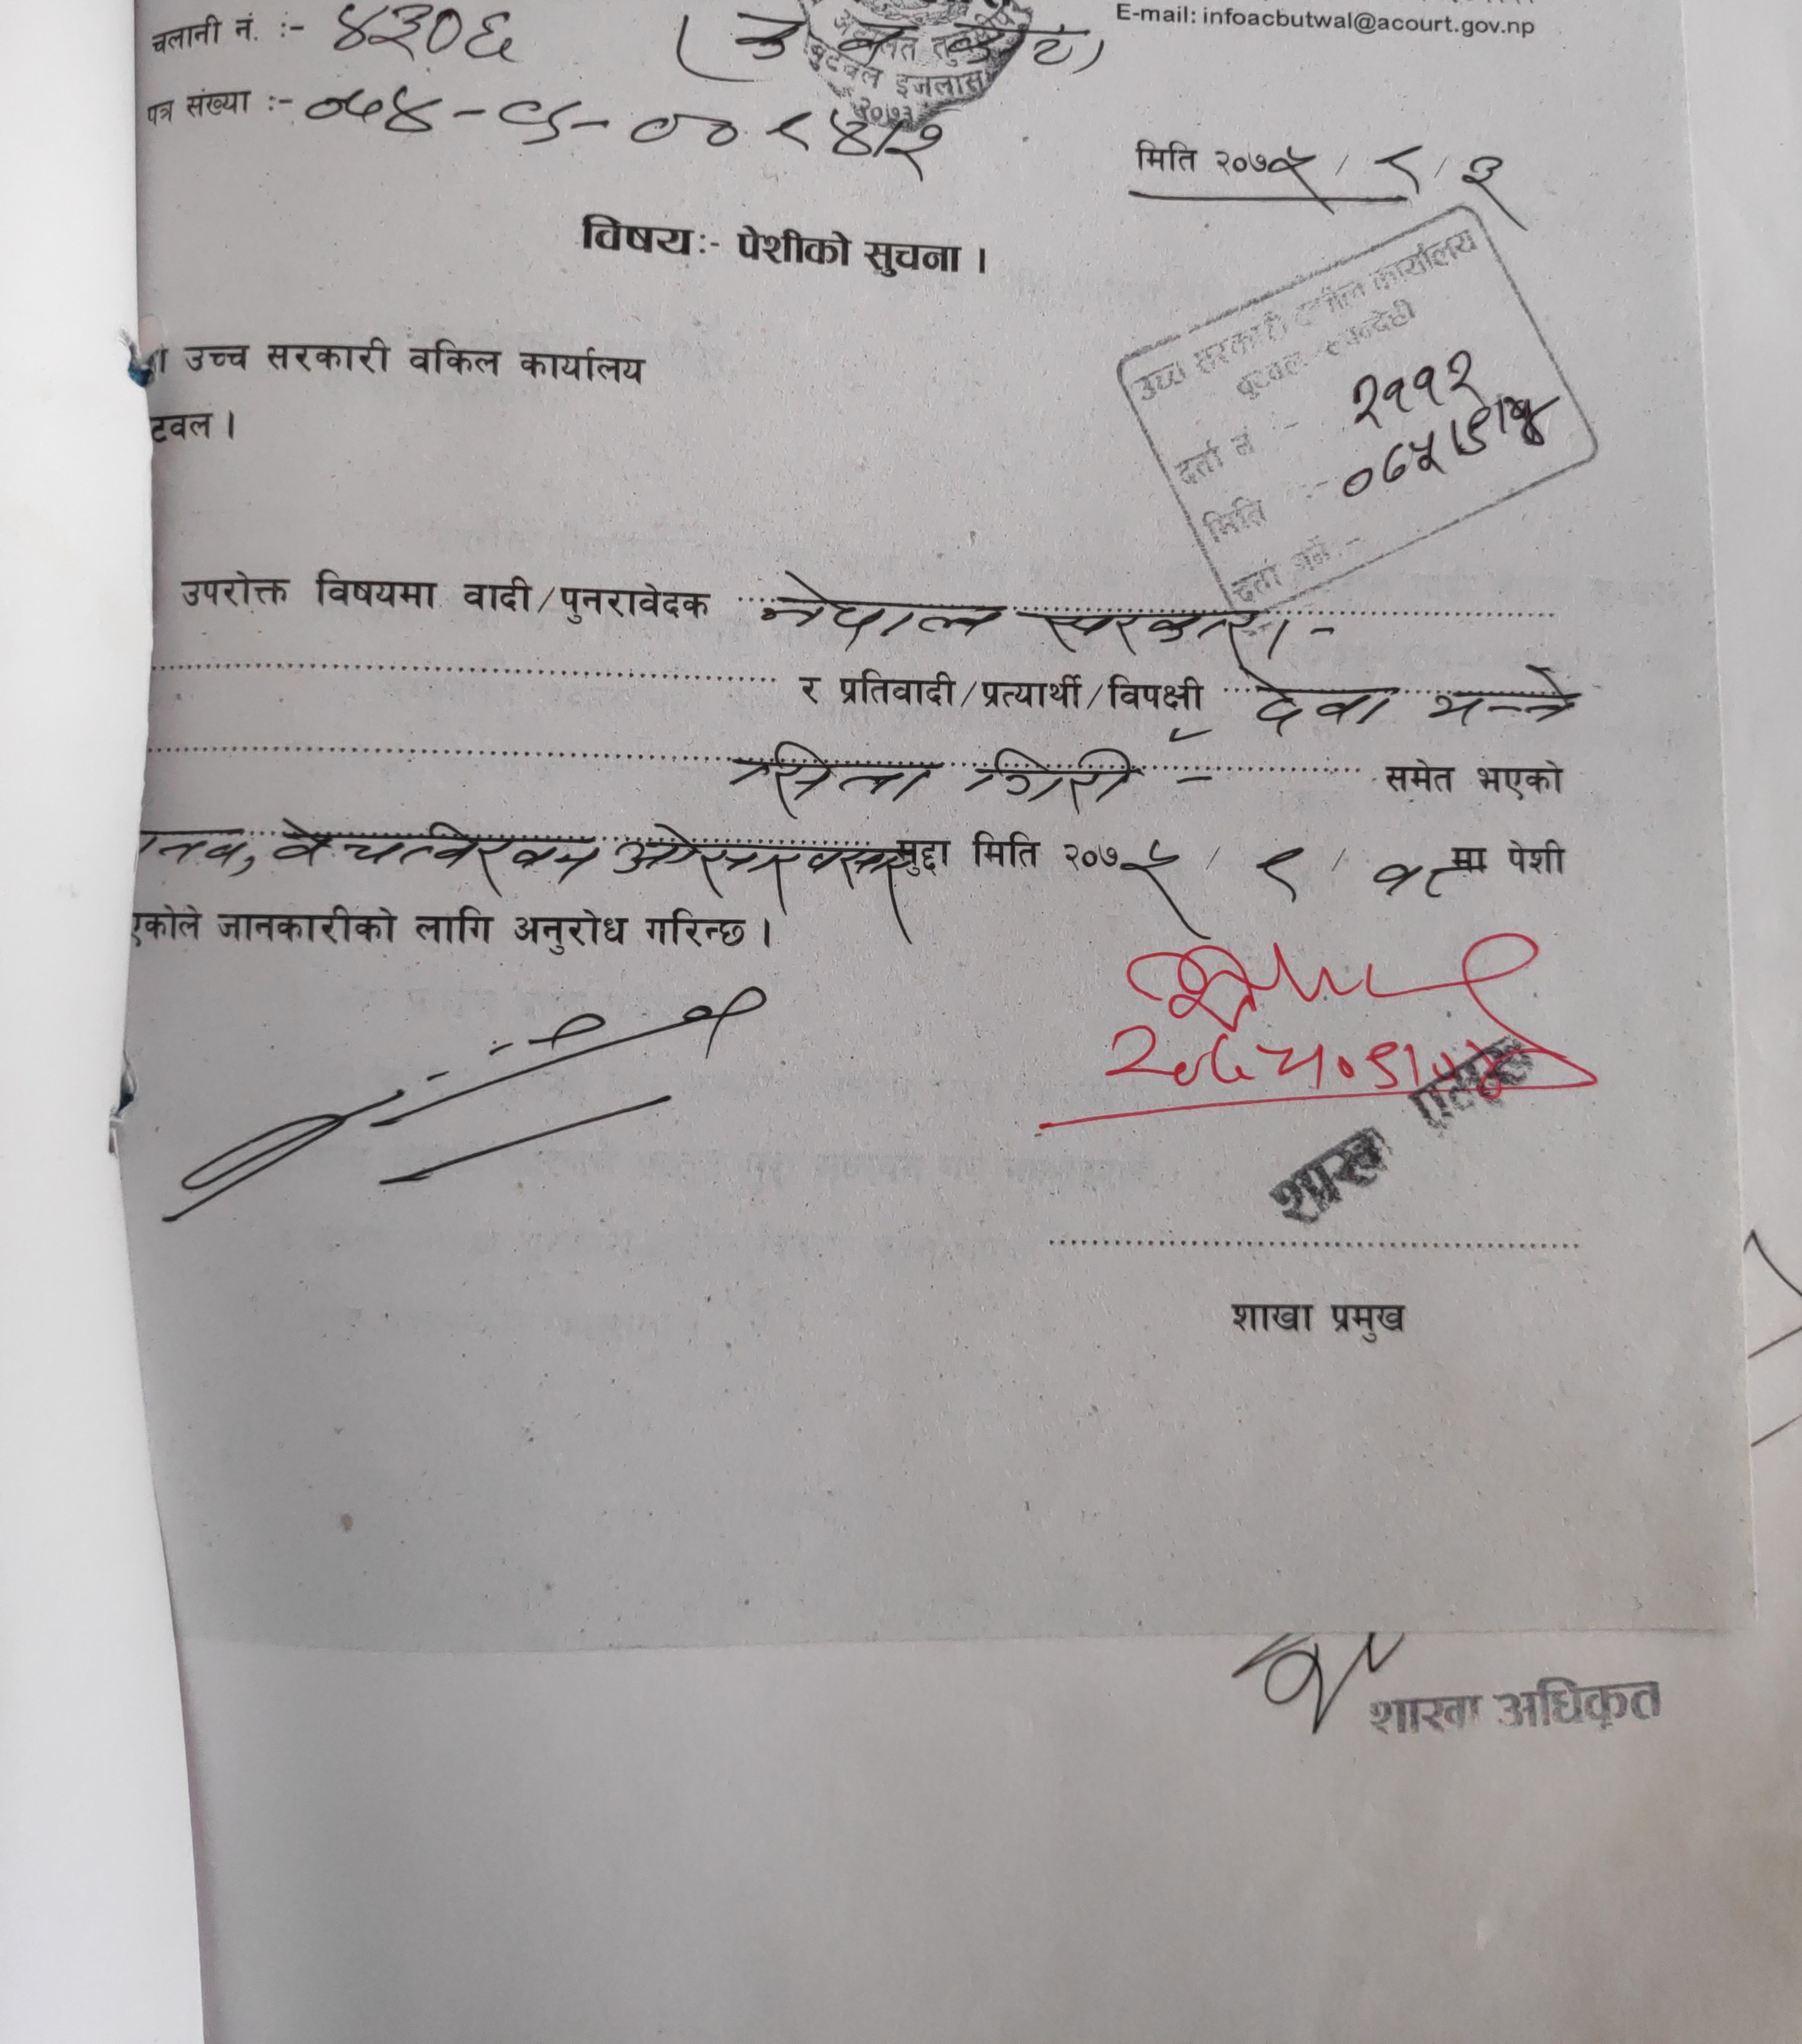text: (304, 80, 953, 186), (266, 812, 602, 896), (609, 819, 901, 913), (1334, 411, 1562, 501), (757, 572, 1004, 651), (732, 741, 939, 823), (1023, 600, 1259, 665), (1231, 665, 1404, 741), (967, 739, 1145, 811), (327, 0, 537, 59), (1426, 661, 1592, 732), (1346, 346, 1482, 423)
